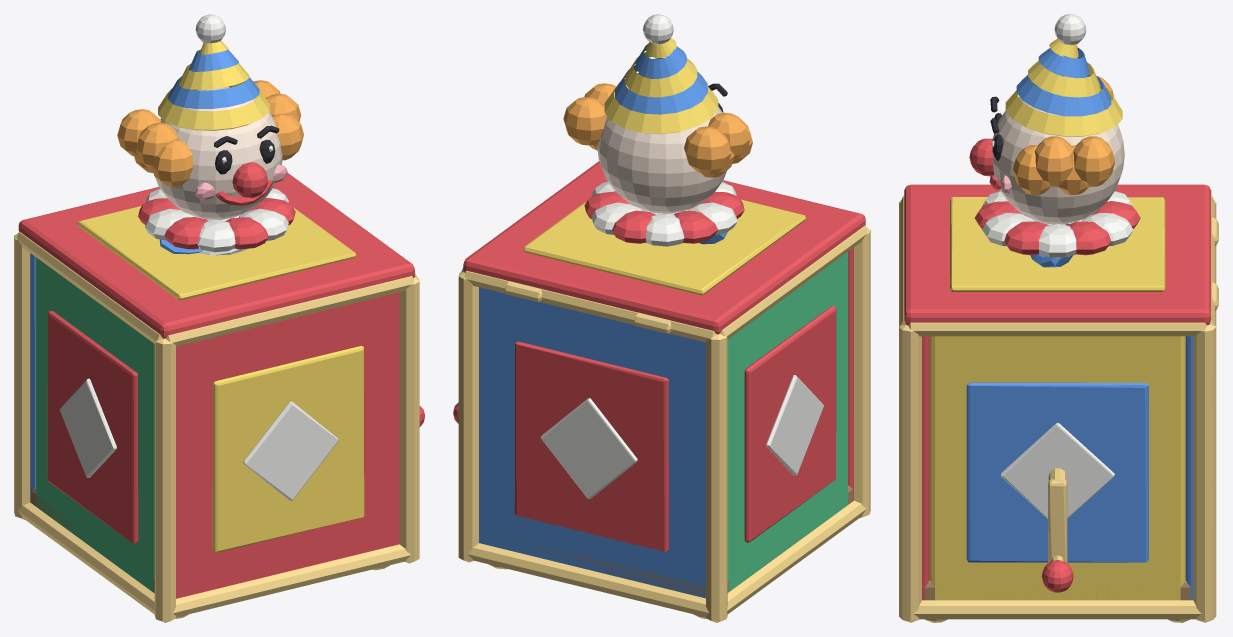
Rendered from CajaSorpresa.glb.
3 views of the same model, side by side, from view 1: azimuth 30°, elevation 25°; view 2: azimuth 150°, elevation 25°; view 3: azimuth 270°, elevation 25° (orthographic). The views are drawn at different scales.
Visible parts, largest first — view 1: CajaSorpresa, Caja_Tapa, Caja_Payaso; view 2: CajaSorpresa, Caja_Tapa, Caja_Payaso; view 3: CajaSorpresa, Caja_Tapa, Caja_Payaso.
Part boxes in pixels (left/top/right/bottom): CajaSorpresa: left=14, top=231, right=424, bottom=622; Caja_Tapa: left=18, top=173, right=414, bottom=338; Caja_Payaso: left=117, top=14, right=303, bottom=252; CajaSorpresa: left=453, top=225, right=870, bottom=622; Caja_Tapa: left=463, top=161, right=865, bottom=334; Caja_Payaso: left=563, top=14, right=752, bottom=246; CajaSorpresa: left=899, top=195, right=1216, bottom=622; Caja_Tapa: left=904, top=184, right=1218, bottom=325; Caja_Payaso: left=969, top=14, right=1140, bottom=258.
Bounding box in the file's own units: 0.6372 × 0.955 × 0.5.
